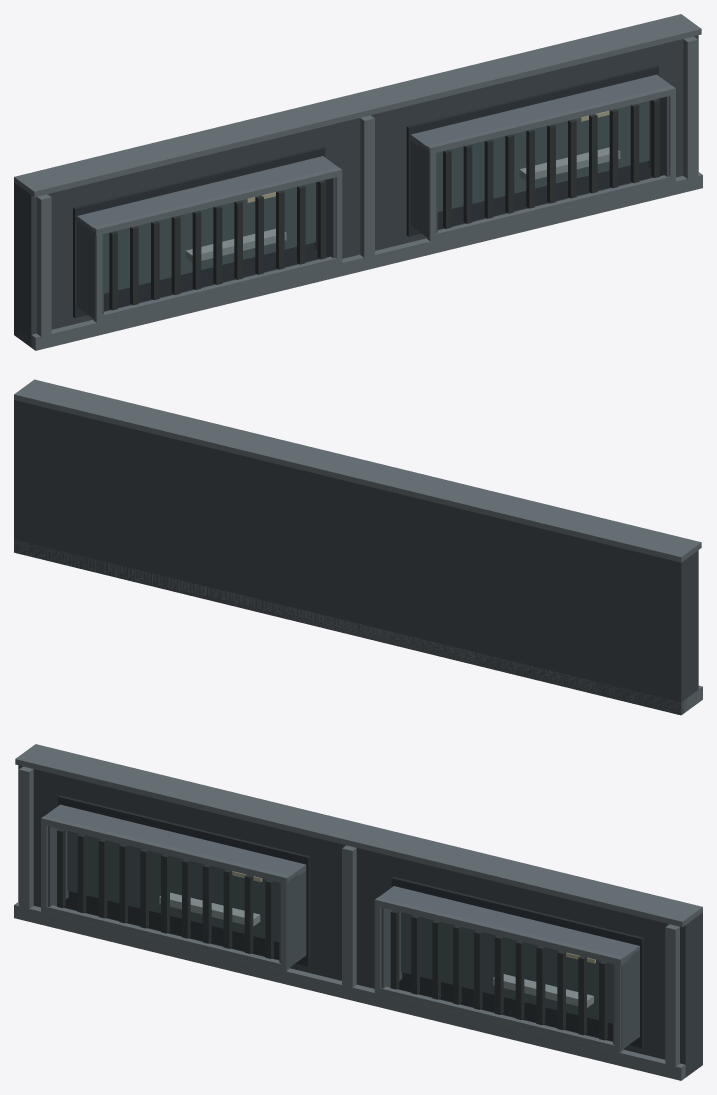
File: SC_WallA.glb
3 views of the same model, one above another, from view 1: azimuth 30°, elevation 25°; view 2: azimuth 150°, elevation 25°; view 3: azimuth 330°, elevation 25° (orthographic).
Parts seen in each view (by area): view 1: SC_WallA; view 2: SC_WallA; view 3: SC_WallA.
Boxes of the visible parts, x1,y1,x2,y2 form: SC_WallA: (14, 14, 702, 350); SC_WallA: (14, 379, 702, 715); SC_WallA: (14, 744, 702, 1080).
Size of the model in its own units: 64 by 14.5 by 6.43.
1 material, 1 textured.
